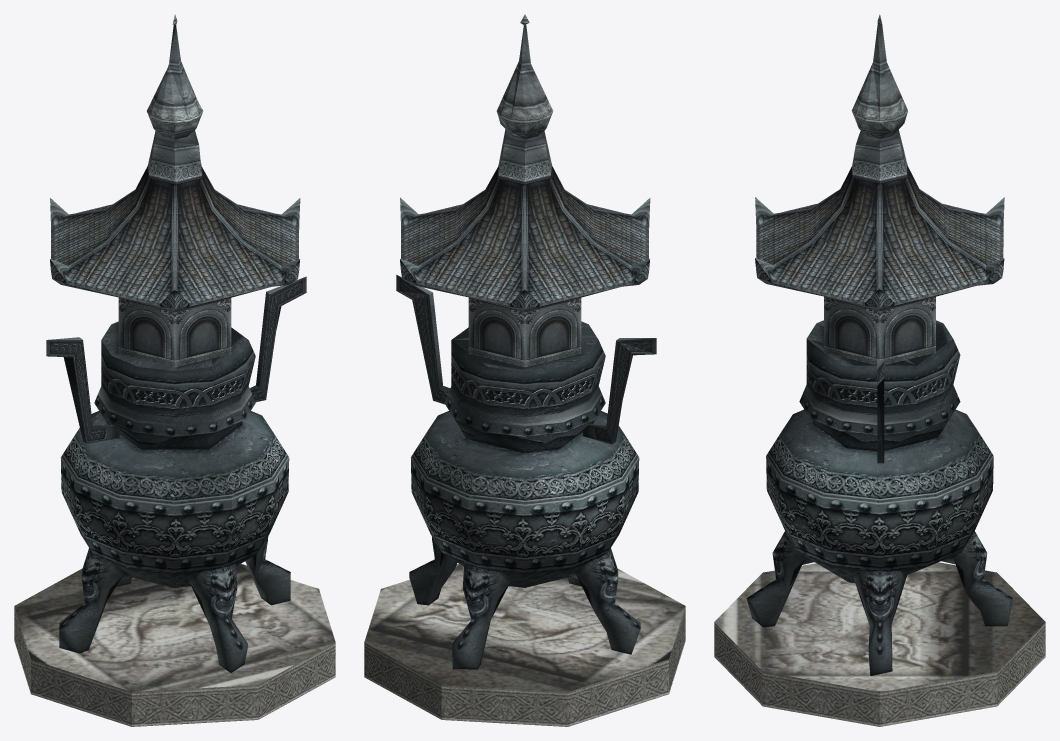
Rendered from ob_brazier_lod_01.fbx.
3 views of the same model, side by side, from view 1: azimuth 30°, elevation 25°; view 2: azimuth 150°, elevation 25°; view 3: azimuth 270°, elevation 25° (orthographic).
Parts seen in each view (by area): view 1: ob_brazier_02, ob_brazier_01; view 2: ob_brazier_02, ob_brazier_01; view 3: ob_brazier_02, ob_brazier_01.
Part boxes in pixels (x1=…): ob_brazier_02: x1=14, y1=14, x2=335, y2=726; ob_brazier_01: x1=46, y1=276, x2=306, y2=587; ob_brazier_02: x1=364, y1=14, x2=685, y2=726; ob_brazier_01: x1=396, y1=274, x2=656, y2=587; ob_brazier_02: x1=714, y1=14, x2=1045, y2=726; ob_brazier_01: x1=766, y1=320, x2=993, y2=582.
Bounding box in the file's own units: 2.06 × 4.42 × 2.06.
